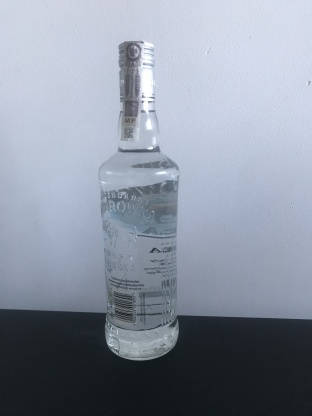nakretka: (116, 37, 157, 105)
